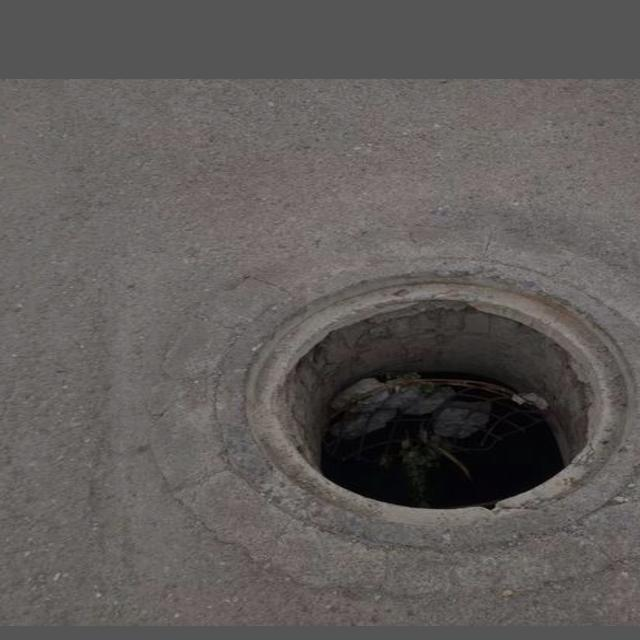lose: (181, 260, 640, 555)
